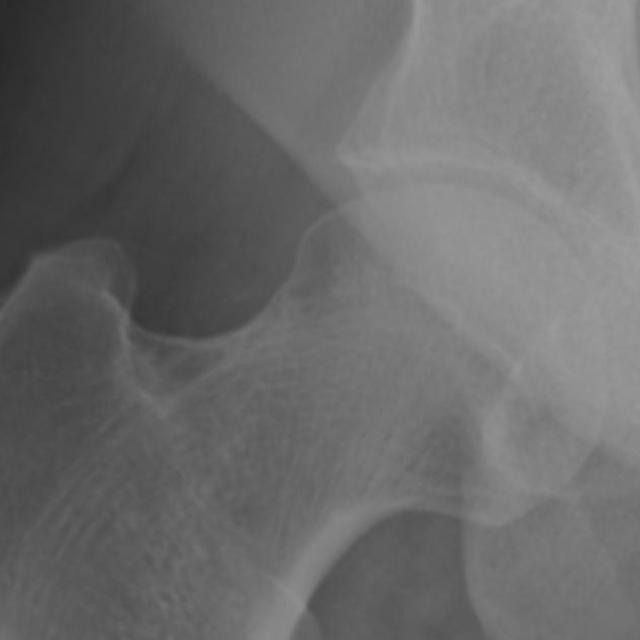Fitted_femural_head: (353, 185, 432, 353)
